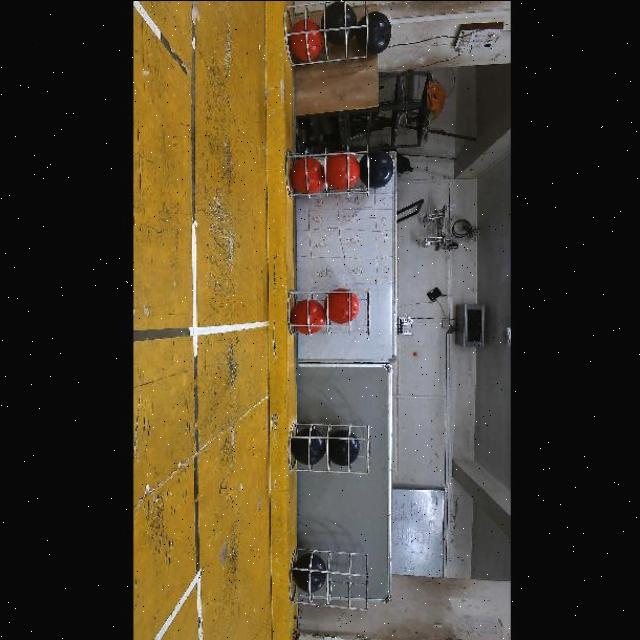P: (321, 0, 357, 44), (356, 10, 391, 53), (292, 552, 327, 592), (290, 427, 326, 464), (359, 149, 394, 187), (328, 428, 360, 465)
R: (288, 18, 325, 61), (326, 150, 360, 190), (290, 298, 326, 333), (325, 287, 360, 323), (290, 157, 325, 192)
S: (283, 0, 369, 66), (288, 547, 370, 611), (284, 142, 370, 198), (288, 421, 372, 475), (286, 285, 372, 337)
